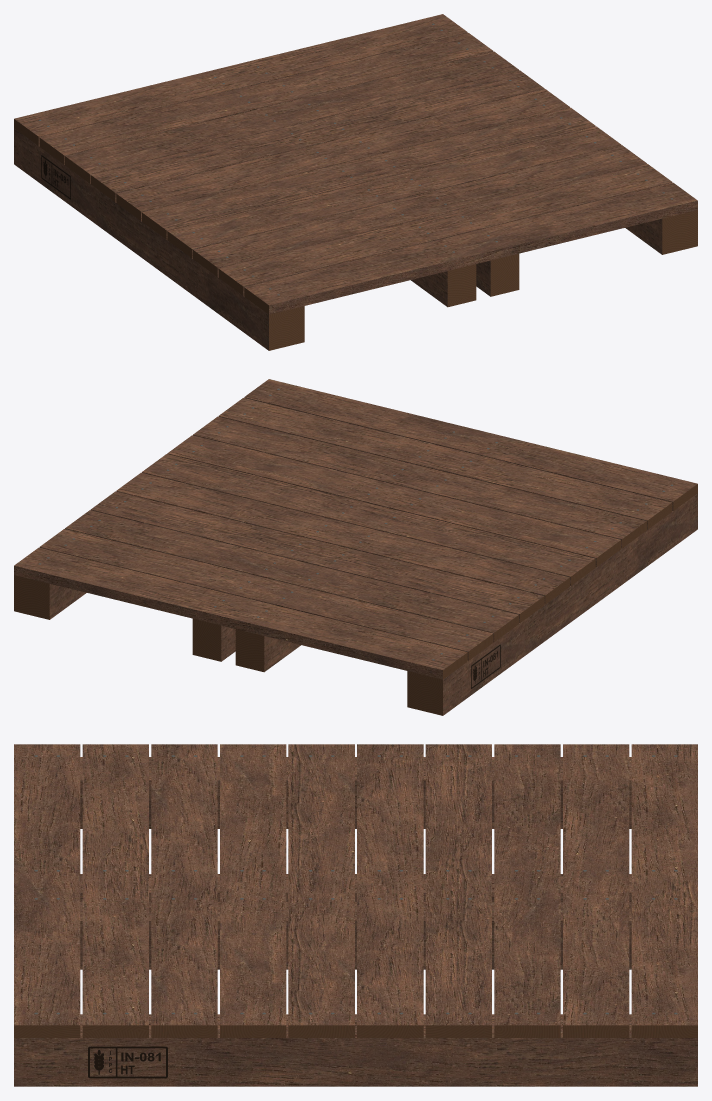
File: hw04-hardwood-skid-pallet-1235x1200.glb
3 views of the same model, one above another, from view 1: azimuth 30°, elevation 25°; view 2: azimuth 150°, elevation 25°; view 3: azimuth 270°, elevation 25° (orthographic). The views are drawn at different scales.
Parts seen in each view (by area): view 1: hw04-hardwood-skid-pallet-1235x1200; view 2: hw04-hardwood-skid-pallet-1235x1200; view 3: hw04-hardwood-skid-pallet-1235x1200.
Boxes of the visible parts, x1,y1,x2,y2 form: hw04-hardwood-skid-pallet-1235x1200: [14, 14, 697, 350]; hw04-hardwood-skid-pallet-1235x1200: [14, 379, 697, 715]; hw04-hardwood-skid-pallet-1235x1200: [14, 744, 697, 1086].
Size of the model in its own units: 1.2 by 0.1225 by 1.24.
4 materials, 3 textured.
